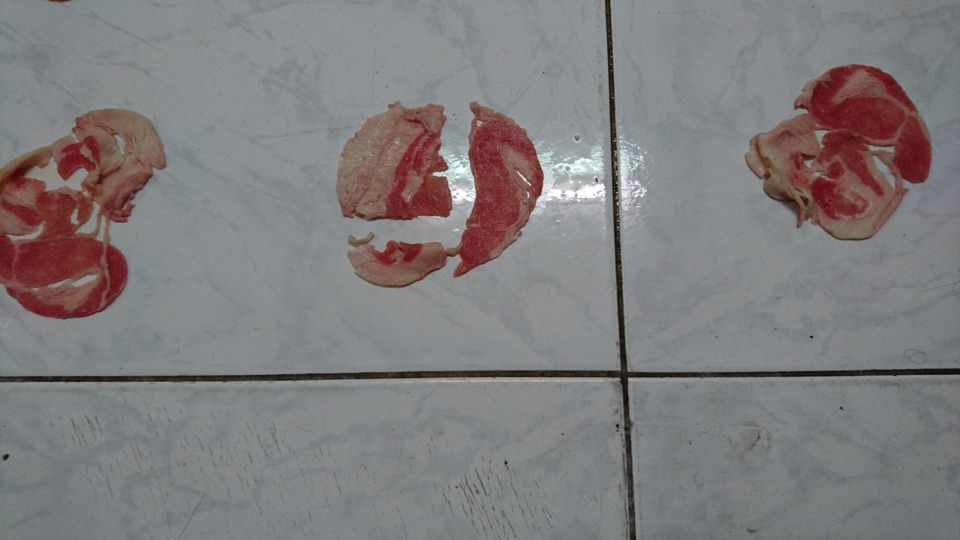restructured meat: (332, 103, 554, 292), (1, 96, 168, 326), (747, 60, 934, 244)
